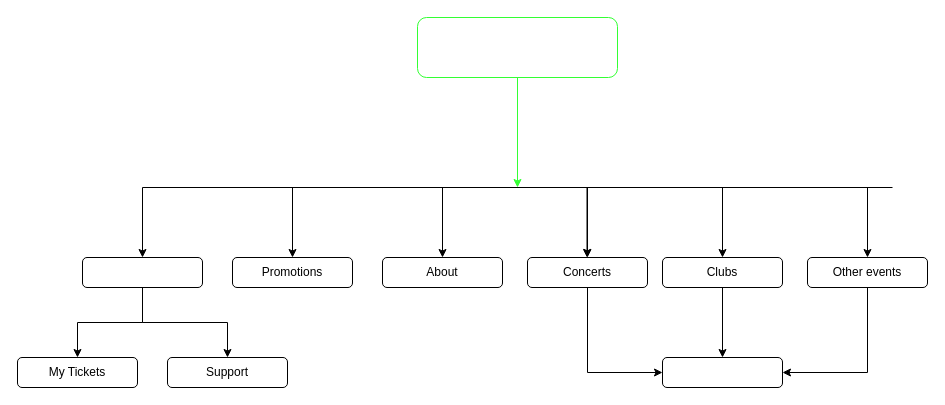
Image size: 945x405. Some labels were removed from this diagram. Each missing label, with the centre of its shape:
"Entrada evento" belongs at point 722,372.
"My Acount" belongs at point 142,272.
"Partyplanner.com" belongs at point 517,47.
